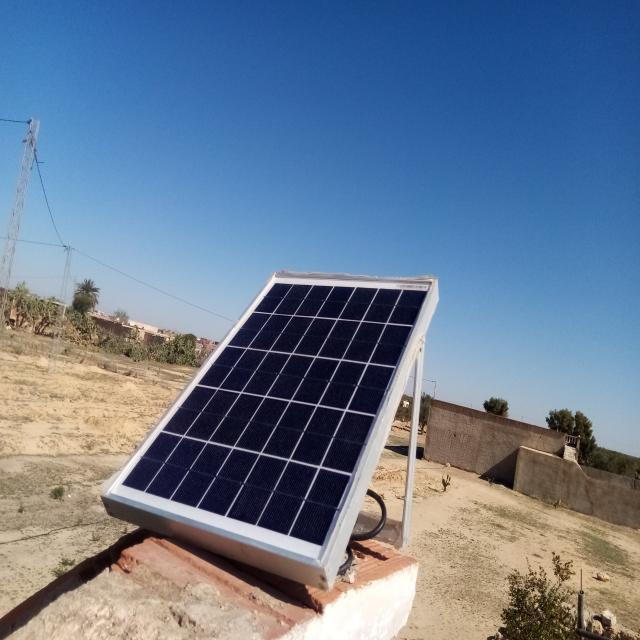Normal Solar Panel: (103, 273, 435, 566)
